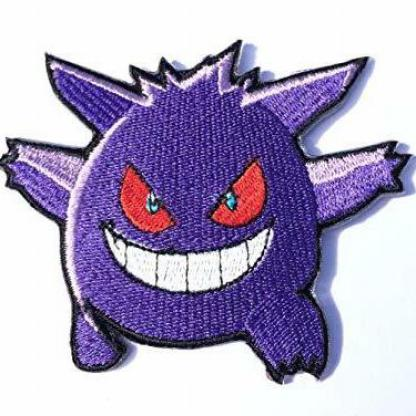Gengar: (1, 32, 416, 389)
